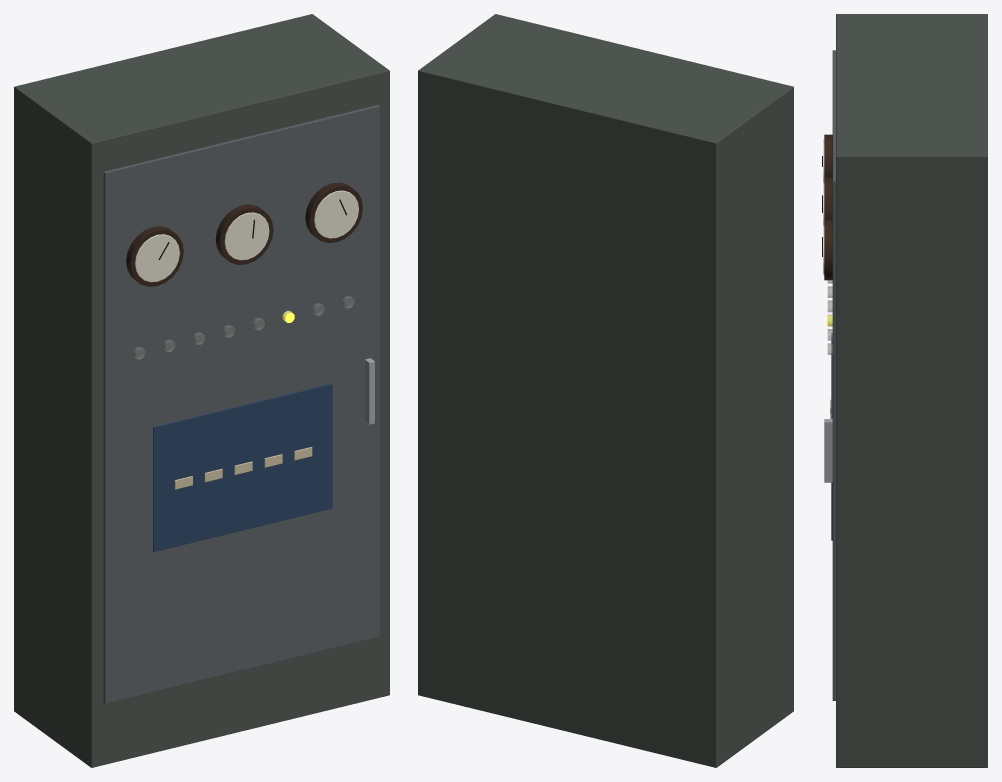
Rendered from PROP_Cabinet_Relay_Historic.glb.
The picture shows the model from 3 angles, left to right: view 1: azimuth 30°, elevation 25°; view 2: azimuth 150°, elevation 25°; view 3: azimuth 270°, elevation 25°; orthographic projection. The views are drawn at different scales.
Visible parts, largest first — view 1: PROP_Cabinet_Relay_Historic_Mesh; view 2: PROP_Cabinet_Relay_Historic_Mesh; view 3: PROP_Cabinet_Relay_Historic_Mesh.
Part boxes in pixels (x1=…): PROP_Cabinet_Relay_Historic_Mesh: x1=14, y1=14, x2=389, y2=767; PROP_Cabinet_Relay_Historic_Mesh: x1=418, y1=14, x2=793, y2=767; PROP_Cabinet_Relay_Historic_Mesh: x1=822, y1=14, x2=987, y2=767.
Size of what is drawn, in the model's own units: 1 by 2 by 0.4915.
